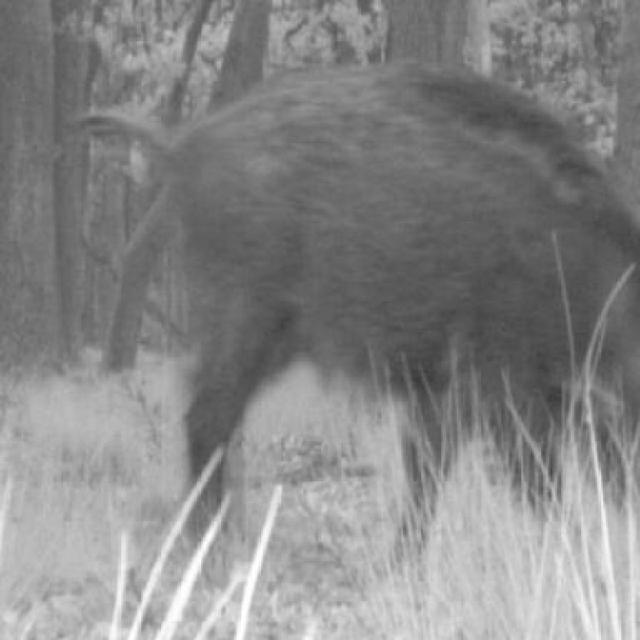Boar: (158, 71, 640, 557)
